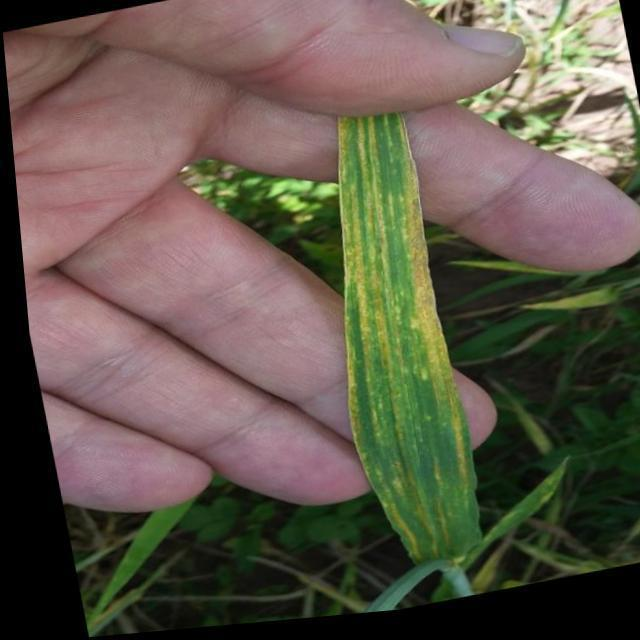Yellow_Rust: (327, 120, 472, 574)
